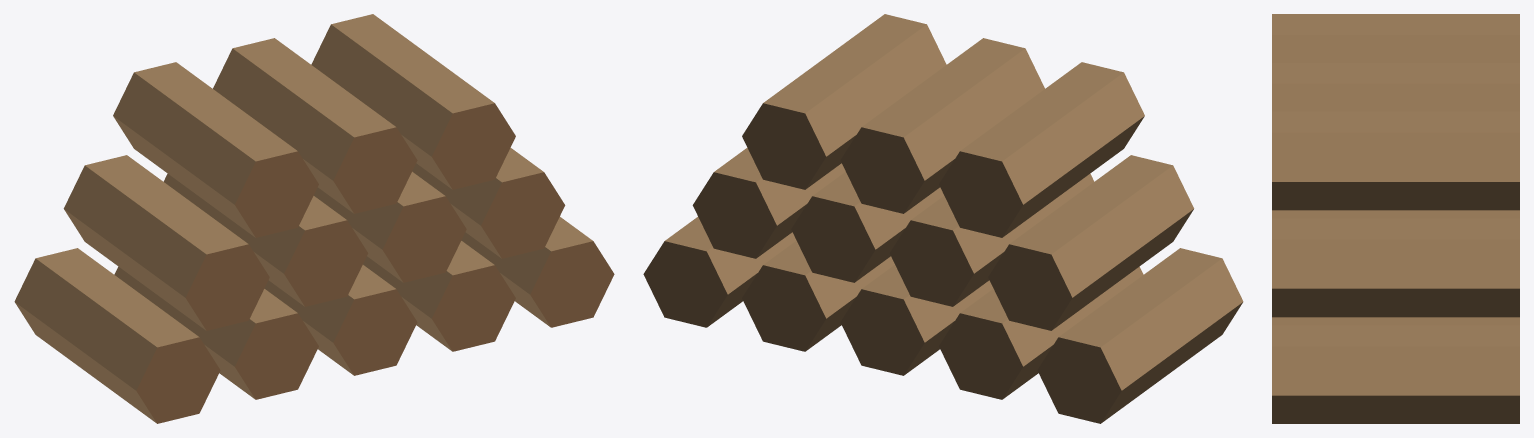
Rendered from woodpile.glb.
3 renders of one model, left to right at view 1: azimuth 30°, elevation 25°; view 2: azimuth 150°, elevation 25°; view 3: azimuth 270°, elevation 25°, orthographic.
Visible parts, largest first — view 1: woodpile; view 2: woodpile; view 3: woodpile.
Part boxes in pixels (x1,y1,x2,y2): woodpile: (14,14,614,423); woodpile: (643,14,1243,423); woodpile: (1272,14,1519,423).
Bounding box in the file's own units: 1.36 × 0.6478 × 0.6.
